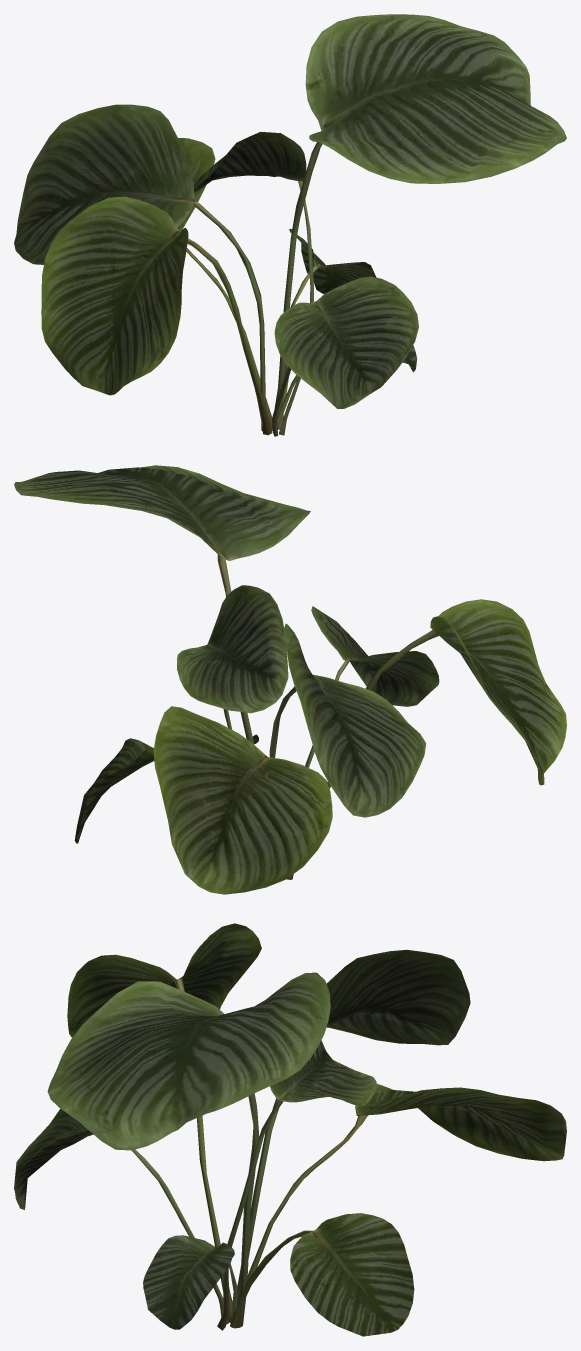
File: plante_calathea.glb
The picture shows the model from 3 angles, top to bottom: view 1: azimuth 30°, elevation 25°; view 2: azimuth 150°, elevation 25°; view 3: azimuth 270°, elevation 25°; orthographic projection. The views are drawn at different scales.
Parts seen in each view (by area): view 1: calathea_orbifolia_01_a; view 2: calathea_orbifolia_01_a; view 3: calathea_orbifolia_01_a.
Boxes of the visible parts, box(x1,y1,x2,y2) form: calathea_orbifolia_01_a: box(14, 14, 566, 436); calathea_orbifolia_01_a: box(14, 465, 566, 894); calathea_orbifolia_01_a: box(14, 923, 566, 1336).
Size of the model in its own units: 0.6016 by 0.4243 by 0.5248.
Materials: 1 (1 with a texture image).
